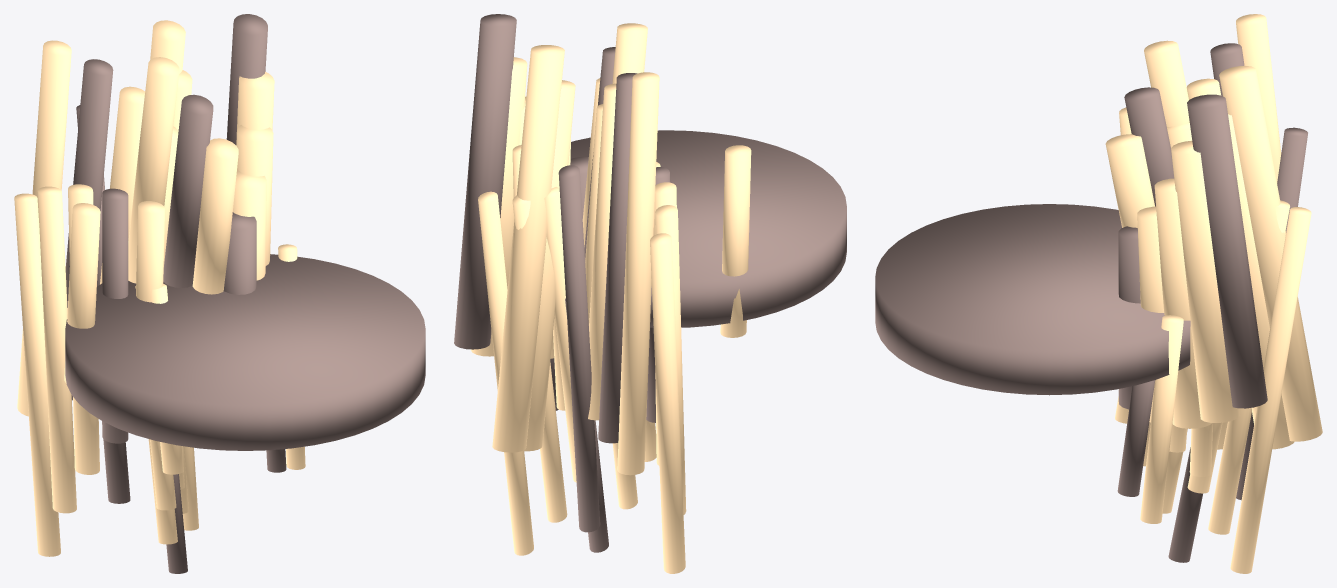
File: coral-spire-01.glb
The picture shows the model from 3 angles, left to right: view 1: azimuth 30°, elevation 25°; view 2: azimuth 150°, elevation 25°; view 3: azimuth 270°, elevation 25°; orthographic projection. The views are drawn at different scales.
Parts seen in each view (by area): view 1: coral_spire_01_base, coral_spire_01_spire_19, coral_spire_01_spire_18, coral_spire_01_spire_08, coral_spire_01_spire_09, coral_spire_01_spire_07, coral_spire_01_spire_13, coral_spire_01_spire_12, coral_spire_01_spire_14, coral_spire_01_spire_16, coral_spire_01_spire_11, coral_spire_01_spire_04 (+16 smaller); view 2: coral_spire_01_base, coral_spire_01_spire_06, coral_spire_01_spire_13, coral_spire_01_spire_04, coral_spire_01_spire_20, coral_spire_01_spire_19, coral_spire_01_spire_12, coral_spire_01_spire_27, coral_spire_01_spire_11, coral_spire_01_spire_05, coral_spire_01_spire_14, coral_spire_01_spire_25 (+12 smaller); view 3: coral_spire_01_base, coral_spire_01_spire_04, coral_spire_01_spire_06, coral_spire_01_spire_03, coral_spire_01_spire_27, coral_spire_01_spire_02, coral_spire_01_spire_29, coral_spire_01_spire_07, coral_spire_01_spire_26, coral_spire_01_spire_08, coral_spire_01_spire_13, coral_spire_01_spire_05 (+10 smaller).
Part boxes in pixels (x1=…): coral_spire_01_base: x1=65, y1=254, x2=425, y2=450; coral_spire_01_spire_19: x1=14, y1=193, x2=60, y2=556; coral_spire_01_spire_18: x1=37, y1=186, x2=76, y2=513; coral_spire_01_spire_08: x1=163, y1=94, x2=213, y2=287; coral_spire_01_spire_09: x1=128, y1=57, x2=179, y2=283; coral_spire_01_spire_07: x1=192, y1=138, x2=238, y2=294; coral_spire_01_spire_13: x1=17, y1=40, x2=71, y2=416; coral_spire_01_spire_12: x1=65, y1=59, x2=113, y2=400; coral_spire_01_spire_14: x1=64, y1=203, x2=100, y2=383; coral_spire_01_spire_16: x1=102, y1=188, x2=128, y2=443; coral_spire_01_spire_11: x1=100, y1=86, x2=145, y2=284; coral_spire_01_spire_04: x1=226, y1=14, x2=267, y2=144; coral_spire_01_base: x1=570, y1=130, x2=846, y2=327; coral_spire_01_spire_06: x1=492, y1=45, x2=564, y2=452; coral_spire_01_spire_13: x1=617, y1=72, x2=659, y2=475; coral_spire_01_spire_04: x1=454, y1=14, x2=516, y2=349; coral_spire_01_spire_20: x1=558, y1=165, x2=600, y2=532; coral_spire_01_spire_19: x1=650, y1=233, x2=685, y2=573; coral_spire_01_spire_12: x1=598, y1=73, x2=637, y2=443; coral_spire_01_spire_27: x1=478, y1=191, x2=533, y2=555; coral_spire_01_spire_11: x1=588, y1=83, x2=616, y2=420; coral_spire_01_spire_05: x1=522, y1=80, x2=575, y2=451; coral_spire_01_spire_14: x1=720, y1=145, x2=751, y2=337; coral_spire_01_spire_25: x1=544, y1=187, x2=576, y2=482; coral_spire_01_base: x1=875, y1=204, x2=1190, y2=395; coral_spire_01_spire_04: x1=1187, y1=94, x2=1267, y2=408; coral_spire_01_spire_06: x1=1219, y1=66, x2=1322, y2=441; coral_spire_01_spire_03: x1=1171, y1=140, x2=1240, y2=422; coral_spire_01_spire_27: x1=1230, y1=207, x2=1311, y2=573; coral_spire_01_spire_02: x1=1154, y1=178, x2=1211, y2=428; coral_spire_01_spire_29: x1=1140, y1=315, x2=1183, y2=523; coral_spire_01_spire_07: x1=1105, y1=134, x2=1154, y2=227; coral_spire_01_spire_26: x1=1208, y1=200, x2=1289, y2=534; coral_spire_01_spire_08: x1=1124, y1=87, x2=1174, y2=206; coral_spire_01_spire_13: x1=1236, y1=14, x2=1281, y2=183; coral_spire_01_spire_05: x1=1228, y1=114, x2=1294, y2=449.
Bounding box in the file's own units: 1.44 × 2.3 × 1.85.
